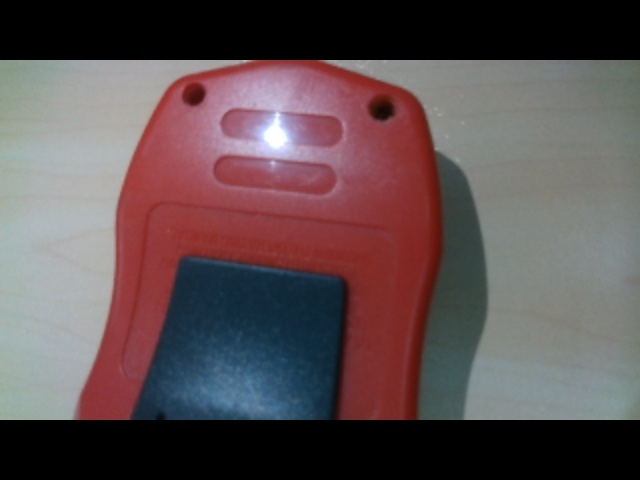Screw holes: (365, 92, 400, 124), (179, 80, 208, 108)
